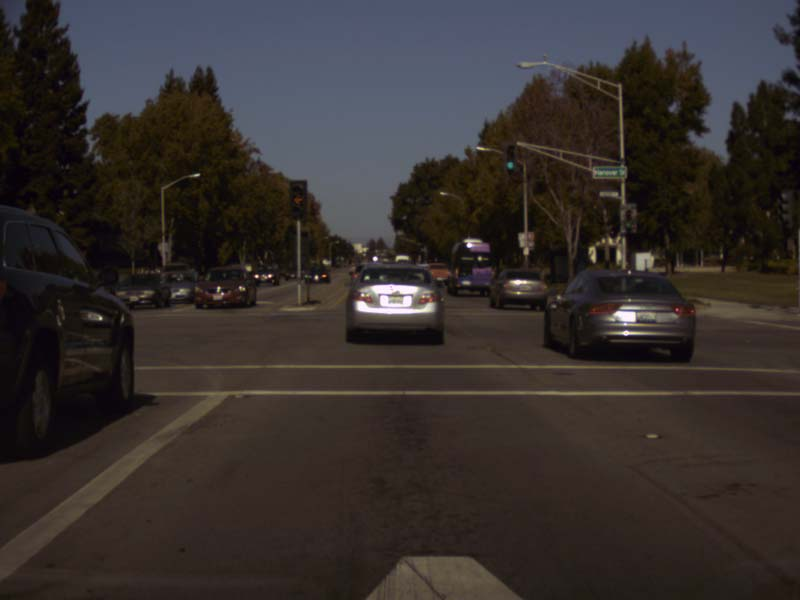Green: (506, 142, 516, 173), (625, 209, 631, 229)
Red: (289, 180, 307, 219)
